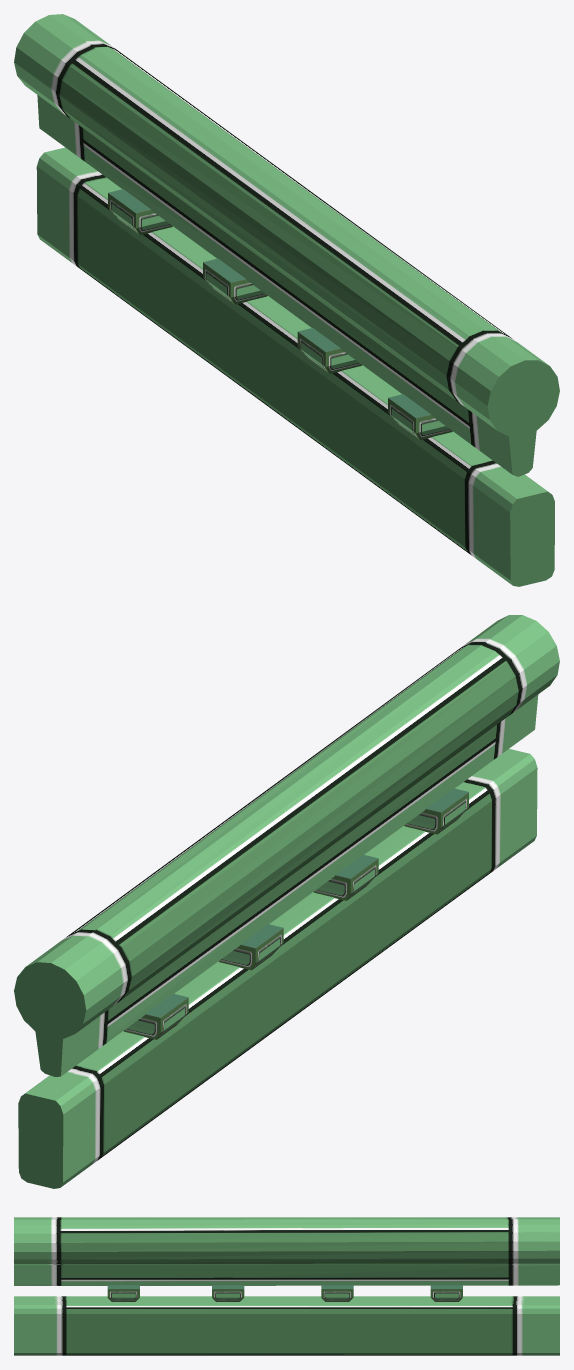
Rendered from SM_R_Dancheong_7.fbx.
The picture shows the model from 3 angles, top to bottom: view 1: azimuth 30°, elevation 25°; view 2: azimuth 150°, elevation 25°; view 3: azimuth 270°, elevation 25°; orthographic projection. The views are drawn at different scales.
Parts seen in each view (by area): view 1: SM_R_Dancheong_7; view 2: SM_R_Dancheong_7; view 3: SM_R_Dancheong_7.
Boxes of the visible parts, box(x1,y1,x2,y2) form: SM_R_Dancheong_7: box(14, 14, 559, 586); SM_R_Dancheong_7: box(14, 615, 559, 1188); SM_R_Dancheong_7: box(14, 1217, 559, 1355).
Bounding box in the file's own units: 24.84 × 280 × 73.51.
Materials: 2 (2 with a texture image).
